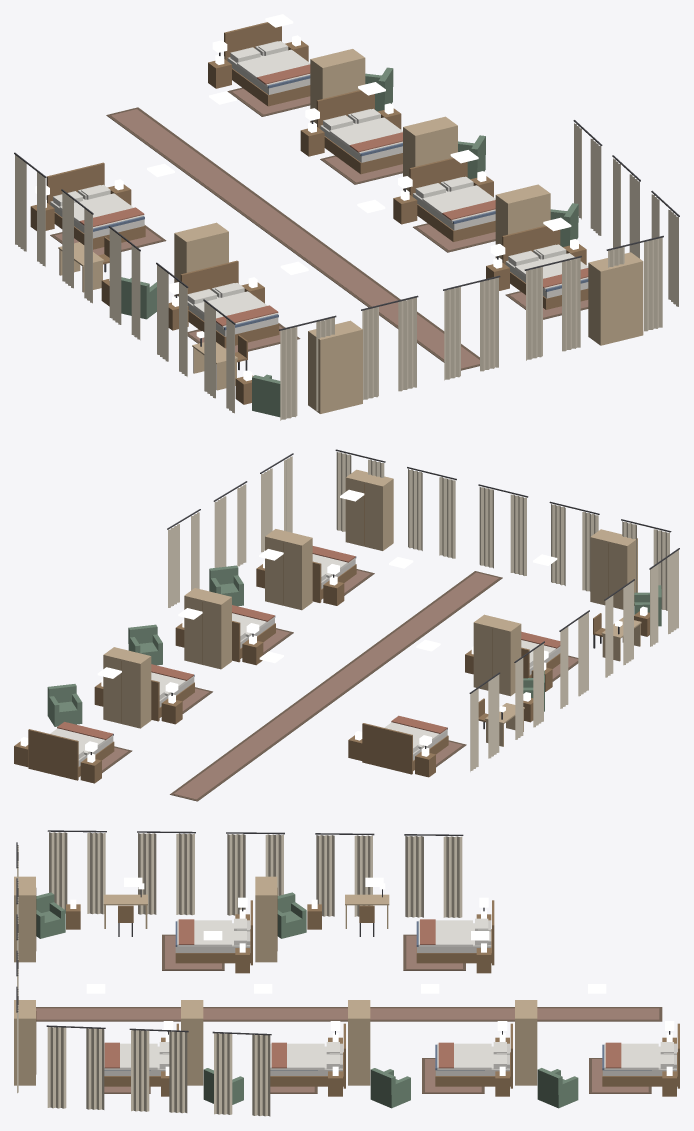
File: fine-s3.glb
3 renders of one model, top to bottom at view 1: azimuth 30°, elevation 25°; view 2: azimuth 150°, elevation 25°; view 3: azimuth 270°, elevation 25°, orthographic. The views are drawn at different scales.
Visible parts, largest first — view 1: soft-s3, dresser.017, dresser.013, bed-frame.016, bed-frame.015, bed-frame.014, bed-frame.013, bed-frame.012, dresser.016, dresser.014, dresser.012, dresser.015 (+11 smaller); view 2: soft-s3, dresser.014, dresser.017, dresser.015, dresser.016, dresser.012, dresser.013, bed-frame.014, bed-frame.012, lounge-chair.012, lounge-chair.013, lounge-chair.014 (+8 smaller); view 3: soft-s3, dresser.012, dresser.014, dresser.015, dresser.013, dresser.017, dresser.016, bed-frame.012, bed-frame.014, bed-frame.015, bed-frame.013, lounge-chair.012 (+9 smaller).
Boxes of the visible parts, left/top/right/bottom form: soft-s3: left=14, top=40, right=679, bottom=420; dresser.017: left=588, top=252, right=643, bottom=345; dresser.013: left=308, top=320, right=362, bottom=413; bed-frame.016: left=409, top=157, right=495, bottom=241; bed-frame.015: left=316, top=90, right=402, bottom=174; bed-frame.014: left=224, top=22, right=310, bottom=106; bed-frame.013: left=180, top=260, right=279, bottom=347; bed-frame.012: left=46, top=162, right=145, bottom=249; dresser.016: left=495, top=184, right=550, bottom=259; dresser.014: left=310, top=49, right=365, bottom=123; dresser.012: left=174, top=222, right=228, bottom=296; dresser.015: left=403, top=116, right=457, bottom=191; soft-s3: left=50, top=449, right=679, bottom=801; dresser.014: left=103, top=647, right=151, bottom=728; dresser.017: left=345, top=469, right=393, bottom=550; dresser.015: left=184, top=588, right=231, bottom=669; dresser.016: left=265, top=529, right=312, bottom=610; dresser.012: left=473, top=614, right=521, bottom=696; dresser.013: left=590, top=529, right=637, bottom=609; bed-frame.014: left=28, top=729, right=114, bottom=780; bed-frame.012: left=362, top=723, right=448, bottom=774; lounge-chair.012: left=47, top=684, right=82, bottom=726; lounge-chair.013: left=128, top=624, right=162, bottom=665; lounge-chair.014: left=209, top=565, right=243, bottom=606; soft-s3: left=16, top=830, right=675, bottom=1116; dresser.012: left=255, top=876, right=277, bottom=962; dresser.014: left=515, top=1000, right=537, bottom=1085; dresser.015: left=348, top=1000, right=370, bottom=1085; dresser.013: left=14, top=876, right=36, bottom=962; dresser.017: left=14, top=1000, right=36, bottom=1085; dresser.016: left=181, top=1000, right=203, bottom=1085; bed-frame.012: left=416, top=900, right=494, bottom=965; bed-frame.014: left=602, top=1023, right=679, bottom=1088; bed-frame.015: left=435, top=1023, right=512, bottom=1088; bed-frame.013: left=175, top=900, right=252, bottom=965; lounge-chair.012: left=537, top=1068, right=578, bottom=1108.
Bounding box in the file's own units: 13.09 × 2.51 × 18.04.
